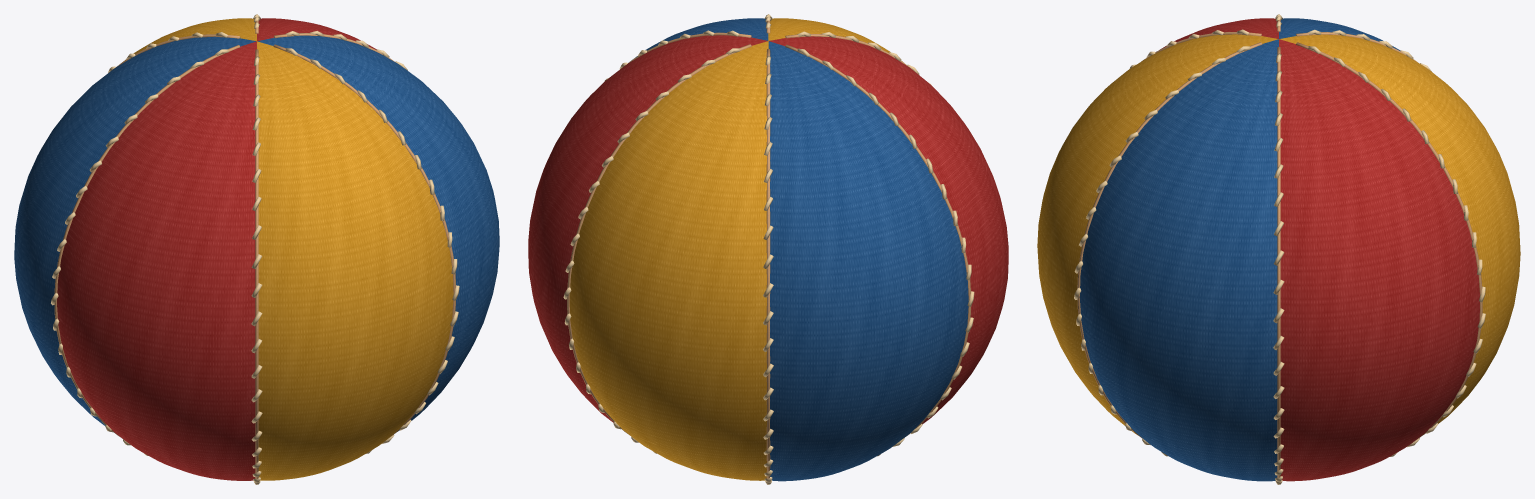
File: patchwork-ball.glb
3 views of the same model, side by side, from view 1: azimuth 30°, elevation 25°; view 2: azimuth 150°, elevation 25°; view 3: azimuth 270°, elevation 25° (orthographic).
Visible parts, largest first — view 1: Six soft patchwork panels, Hand-sewn joining thread, Panel piping; view 2: Six soft patchwork panels, Hand-sewn joining thread, Panel piping; view 3: Six soft patchwork panels, Hand-sewn joining thread, Panel piping.
Boxes of the visible parts, box(x1,y1,x2,y2) form: Six soft patchwork panels: box(14, 18, 499, 480); Hand-sewn joining thread: box(51, 14, 459, 484); Panel piping: box(54, 20, 455, 479); Six soft patchwork panels: box(528, 18, 1008, 481); Hand-sewn joining thread: box(563, 14, 974, 484); Panel piping: box(567, 20, 970, 478); Six soft patchwork panels: box(1037, 18, 1520, 481); Hand-sewn joining thread: box(1074, 14, 1485, 484); Panel piping: box(1077, 20, 1482, 477).
Bounding box in the file's own units: 0.2447 × 0.2365 × 0.2472.
5 materials, 5 textured.
